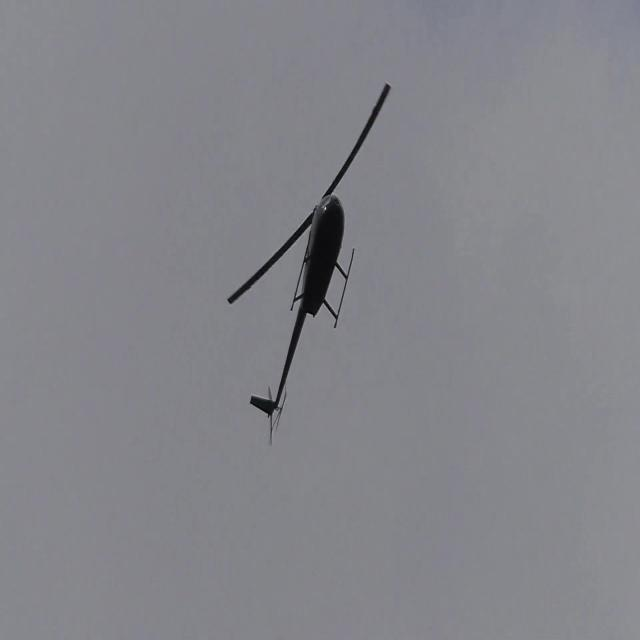CIV_HELO: (249, 189, 355, 417)
